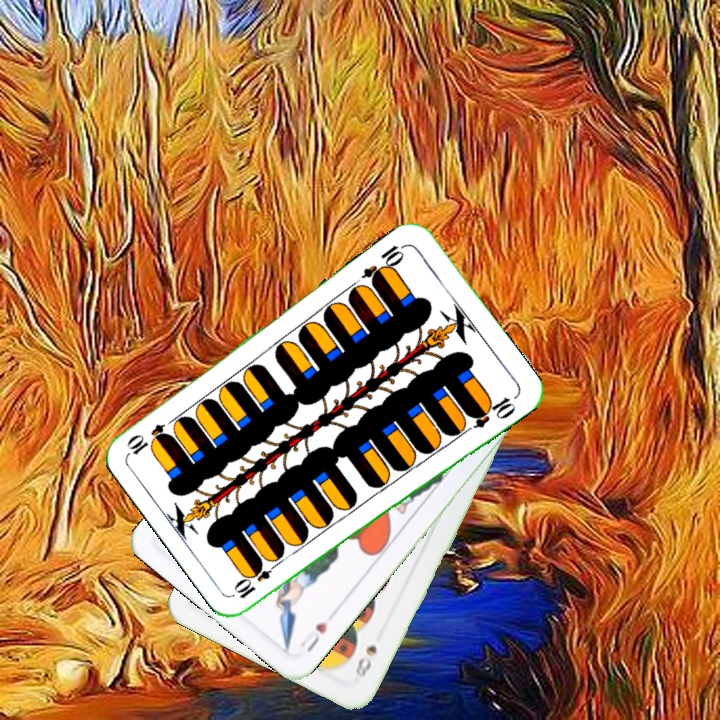E10: (358, 240, 409, 287), (231, 556, 283, 602)
HU: (296, 617, 330, 655)
S8: (351, 640, 380, 686)
